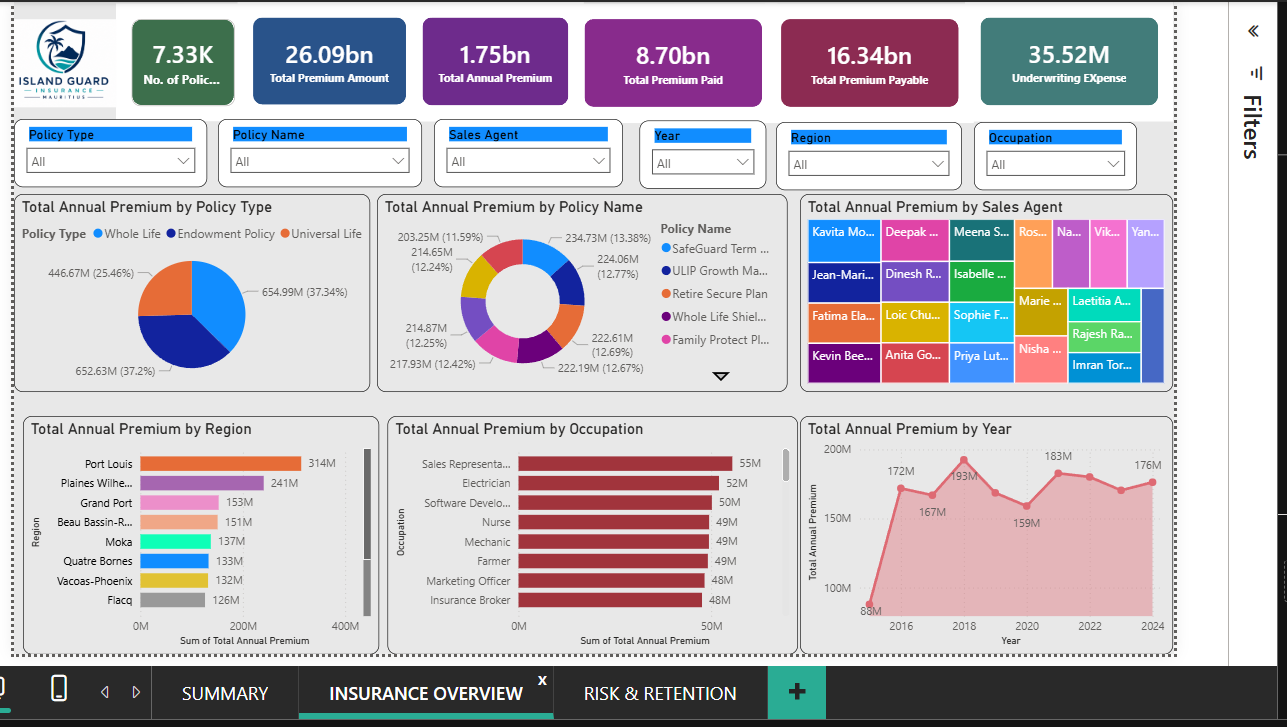

The dashboard page shown, as its layout file describes it:
{"tool":"powerbi","page":{"name":"INSURANCE OVERVIEW","canvas":[1280,720],"ordinal":1},"visuals":[{"type":"cardVisual","fields":{"Data":["CountNonNull(FCT Insurance_Policy_Table.Customer ID)"]},"box":[113.3,1.7,148.3,130],"z":0},{"type":"cardVisual","fields":{"Data":["Sum(FCT Insurance_Policy_Table.Total Premium Amount)"]},"box":[246.7,0,203.3,130],"z":1000},{"type":"cardVisual","fields":{"Data":["Sum(FCT Insurance_Policy_Table.Total Annual Premium)"]},"box":[433.3,0,195,131.7],"z":2000},{"type":"cardVisual","fields":{"Data":["Sum(FCT Insurance_Policy_Table.Total Premium Paid)"]},"box":[613.3,1.7,230,131.7],"z":3000},{"type":"cardVisual","fields":{"Data":["Sum(FCT Insurance_Policy_Table.Total Premium Payable)"]},"box":[830,1.7,230,131.7],"z":4000},{"type":"cardVisual","fields":{"Data":["FCT Insurance_Policy_Table.Underwriting EXpense"]},"box":[1050,0,230,131.7],"z":5000},{"type":"image","box":[0,1.7,113.6,132.2],"z":6000},{"type":"slicer","fields":{"Values":["DM Policy_Type.Policy Type"]},"box":[0,130,213.3,75],"z":7000},{"type":"slicer","fields":{"Values":["DM Policy_Protection_Plan.Policy Name"]},"box":[225,130,225,75],"z":8000},{"type":"slicer","fields":{"Values":["FCT Insurance_Policy_Table.Start Date.Variation.Date Hierarchy.Year"]},"box":[690,131.7,140,75],"z":9000},{"type":"slicer","fields":{"Values":["DM Insurance_Agent_Table.Sales Agent"]},"box":[463.3,130,208.3,75],"z":10000},{"type":"slicer","fields":{"Values":["DM Customer_Detail_Table.State"]},"box":[841.7,133.3,205,75],"z":11000},{"type":"slicer","fields":{"Values":["DM Customer_Detail_Table.Occupation"]},"box":[1060,133.3,180,75],"z":12000},{"type":"pieChart","title":"Total Annual Premium by Policy Type","fields":{"Y":["Sum(FCT Insurance_Policy_Table.Total Annual Premium)"],"Category":["DM Policy_Type.Policy Type"]},"box":[0,211.7,393.3,218.3],"z":13000},{"type":"donutChart","title":"Total Annual Premium by Policy Name","fields":{"Y":["Sum(FCT Insurance_Policy_Table.Total Annual Premium)"],"Category":["DM Policy_Protection_Plan.Policy Name"]},"box":[401.7,211.7,453.3,218.3],"z":14000},{"type":"treemap","title":"Total Annual Premium by Sales Agent","fields":{"Values":["Sum(FCT Insurance_Policy_Table.Total Annual Premium)"],"Group":["DM Insurance_Agent_Table.Sales Agent"]},"box":[868.3,211.7,411.7,218.3],"z":15000},{"type":"clusteredBarChart","title":"Total Annual Premium by Region","fields":{"Y":["Sum(FCT Insurance_Policy_Table.Total Annual Premium)"],"Category":["DM Customer_Detail_Table.State"]},"box":[10,456.7,393.3,263.3],"z":16000},{"type":"barChart","title":"Total Annual Premium by Occupation","fields":{"Category":["DM Customer_Detail_Table.Occupation"],"Y":["Sum(FCT Insurance_Policy_Table.Total Annual Premium)"]},"box":[411.7,456.7,453.3,263.3],"z":17000},{"type":"areaChart","title":"Total Annual Premium by Year","fields":{"Category":["FCT Insurance_Policy_Table.Start Date.Variation.Date Hierarchy.Year"],"Y":["Sum(FCT Insurance_Policy_Table.Total Annual Premium)"]},"box":[868.3,456.7,411.7,263.3],"z":18000}]}

Visuals, with their boxes on the page's 1280x720 design canvas (x1, y1, x2, y2). These are canvas units, not pixel positions in the 1287x727 screenshot, which may show the page scaled, cropped or inside an application window:
cardVisual - CountNonNull(FCT Insurance_Policy_Table.Customer ID): region(113, 2, 262, 132)
cardVisual - Sum(FCT Insurance_Policy_Table.Total Premium Amount): region(247, 0, 450, 130)
cardVisual - Sum(FCT Insurance_Policy_Table.Total Annual Premium): region(433, 0, 628, 132)
cardVisual - Sum(FCT Insurance_Policy_Table.Total Premium Paid): region(613, 2, 843, 133)
cardVisual - Sum(FCT Insurance_Policy_Table.Total Premium Payable): region(830, 2, 1060, 133)
cardVisual - FCT Insurance_Policy_Table.Underwriting EXpense: region(1050, 0, 1280, 132)
image: region(0, 2, 114, 134)
slicer - DM Policy_Type.Policy Type: region(0, 130, 213, 205)
slicer - DM Policy_Protection_Plan.Policy Name: region(225, 130, 450, 205)
slicer - FCT Insurance_Policy_Table.Start Date.Variation.Date Hierarchy.Year: region(690, 132, 830, 207)
slicer - DM Insurance_Agent_Table.Sales Agent: region(463, 130, 672, 205)
slicer - DM Customer_Detail_Table.State: region(842, 133, 1047, 208)
slicer - DM Customer_Detail_Table.Occupation: region(1060, 133, 1240, 208)
"Total Annual Premium by Policy Type" pieChart: region(0, 212, 393, 430)
"Total Annual Premium by Policy Name" donutChart: region(402, 212, 855, 430)
"Total Annual Premium by Sales Agent" treemap: region(868, 212, 1280, 430)
"Total Annual Premium by Region" clusteredBarChart: region(10, 457, 403, 720)
"Total Annual Premium by Occupation" barChart: region(412, 457, 865, 720)
"Total Annual Premium by Year" areaChart: region(868, 457, 1280, 720)
